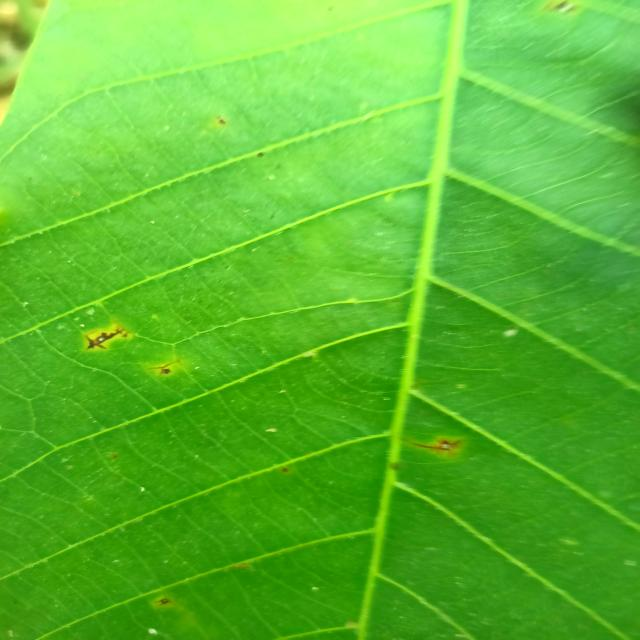Corynespora: (85, 328, 128, 350), (406, 438, 461, 455), (148, 360, 179, 376)
